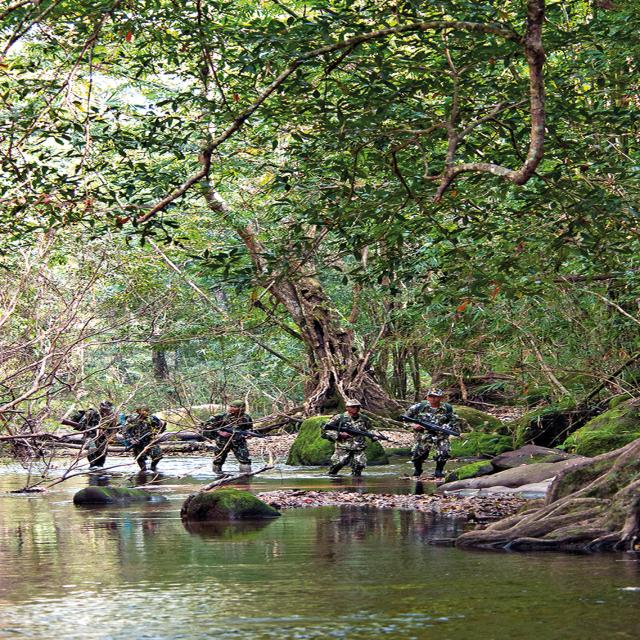Forest: (9, 0, 640, 638)
Militant: (313, 383, 393, 489), (105, 393, 174, 506), (51, 401, 127, 502), (407, 386, 478, 494), (200, 388, 270, 495)
